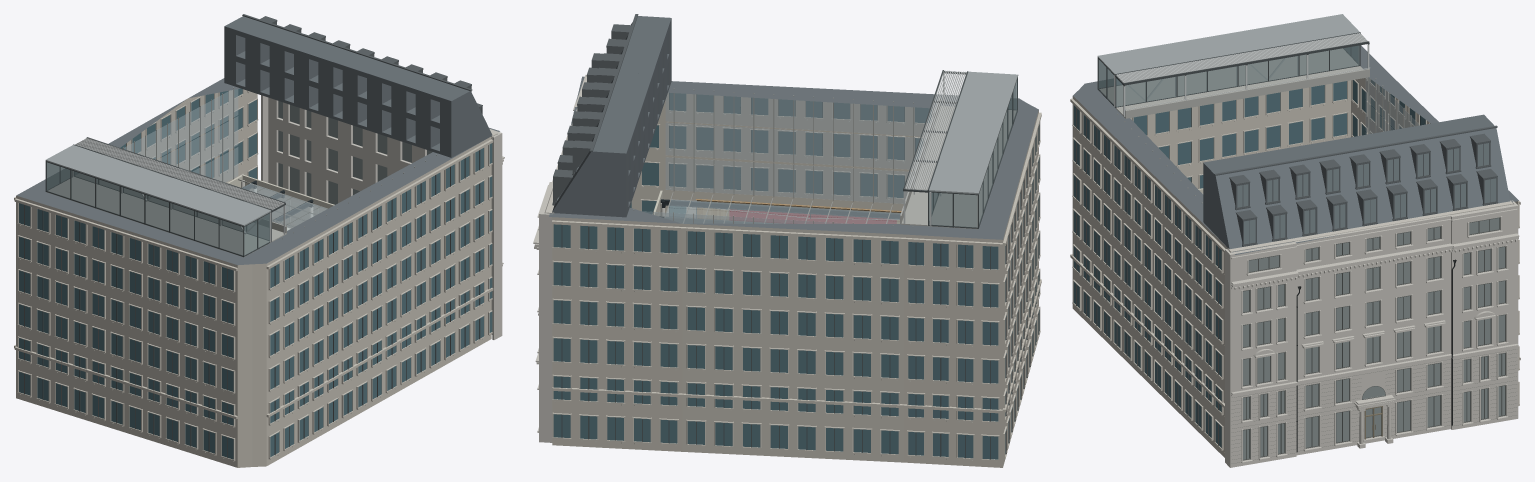
File: ckk-exterior-529657bfffff.glb
3 views of the same model, side by side, from view 1: azimuth 30°, elevation 25°; view 2: azimuth 150°, elevation 25°; view 3: azimuth 270°, elevation 25° (orthographic). The views are drawn at different scales.
Parts seen in each view (by area): view 1: CKK.001; view 2: CKK.001; view 3: CKK.001.
Boxes of the visible parts, x1=… form: CKK.001: x1=14, y1=14, x2=504, y2=467; CKK.001: x1=533, y1=14, x2=1041, y2=467; CKK.001: x1=1070, y1=14, x2=1520, y2=467.
Bounding box in the file's own units: 56.1 × 32.3 × 47.89.
